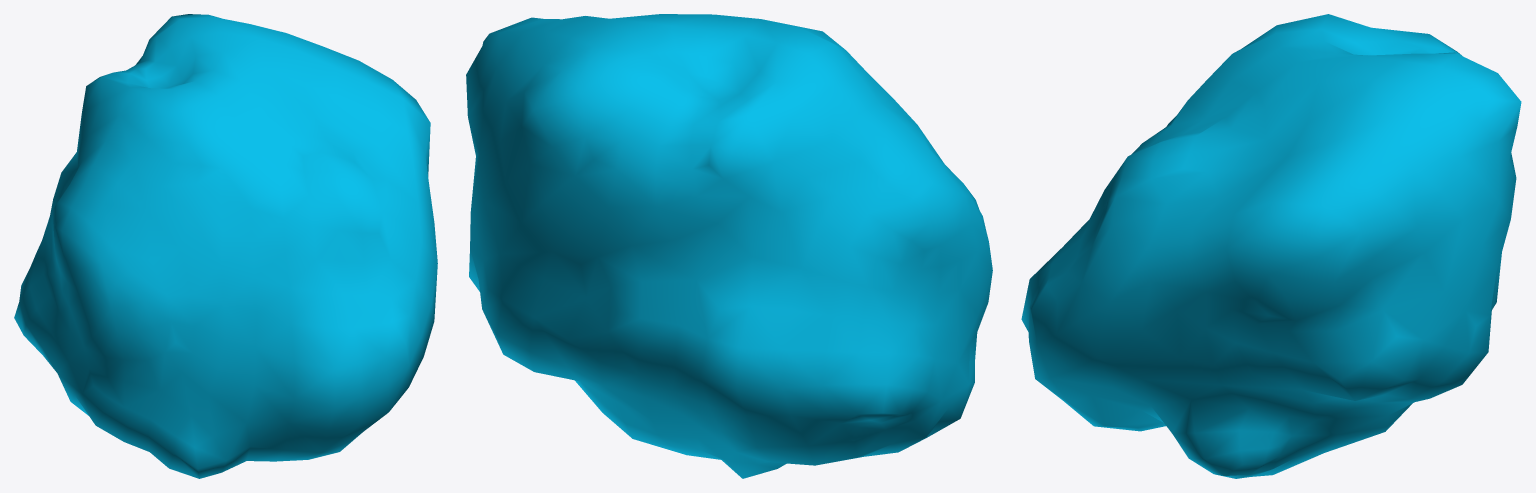
The model's file is food_gp1.fbx.
3 renders of one model, left to right at view 1: azimuth 30°, elevation 25°; view 2: azimuth 150°, elevation 25°; view 3: azimuth 270°, elevation 25°, orthographic. The views are drawn at different scales.
Visible parts, largest first — view 1: food_body; view 2: food_body; view 3: food_body.
Part boxes in pixels (x1=…): food_body: x1=14, y1=14, x2=437, y2=478; food_body: x1=466, y1=14, x2=992, y2=478; food_body: x1=1021, y1=14, x2=1521, y2=478.
Size of the model in its own units: 4.75 by 4.37 by 4.9.
